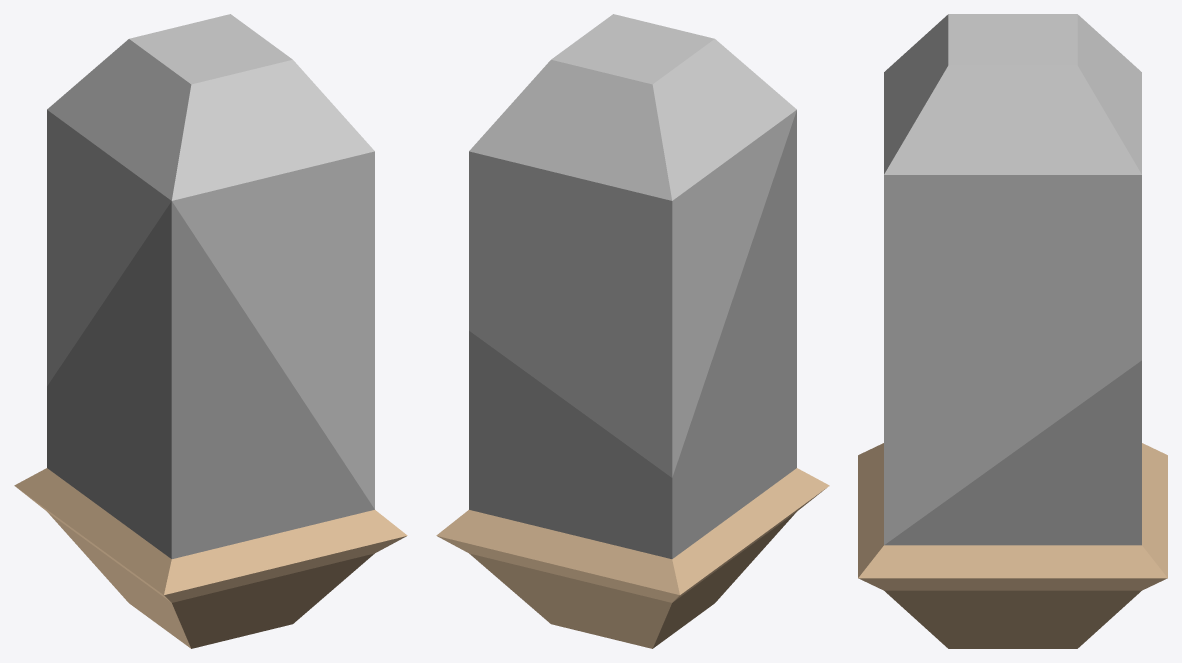
The model's file is TeslaMutant-UpperArm.fbx.
The picture shows the model from 3 angles, left to right: view 1: azimuth 30°, elevation 25°; view 2: azimuth 150°, elevation 25°; view 3: azimuth 270°, elevation 25°; orthographic projection. The views are drawn at different scales.
Parts seen in each view (by area): view 1: TeslaMutantUpperArm; view 2: TeslaMutantUpperArm; view 3: TeslaMutantUpperArm.
Boxes of the visible parts, box(x1,y1,x2,y2) form: TeslaMutantUpperArm: box(14, 14, 407, 648); TeslaMutantUpperArm: box(436, 14, 829, 648); TeslaMutantUpperArm: box(858, 14, 1167, 648).
Bounding box in the file's own units: 0.1882 × 0.4161 × 0.2002.
